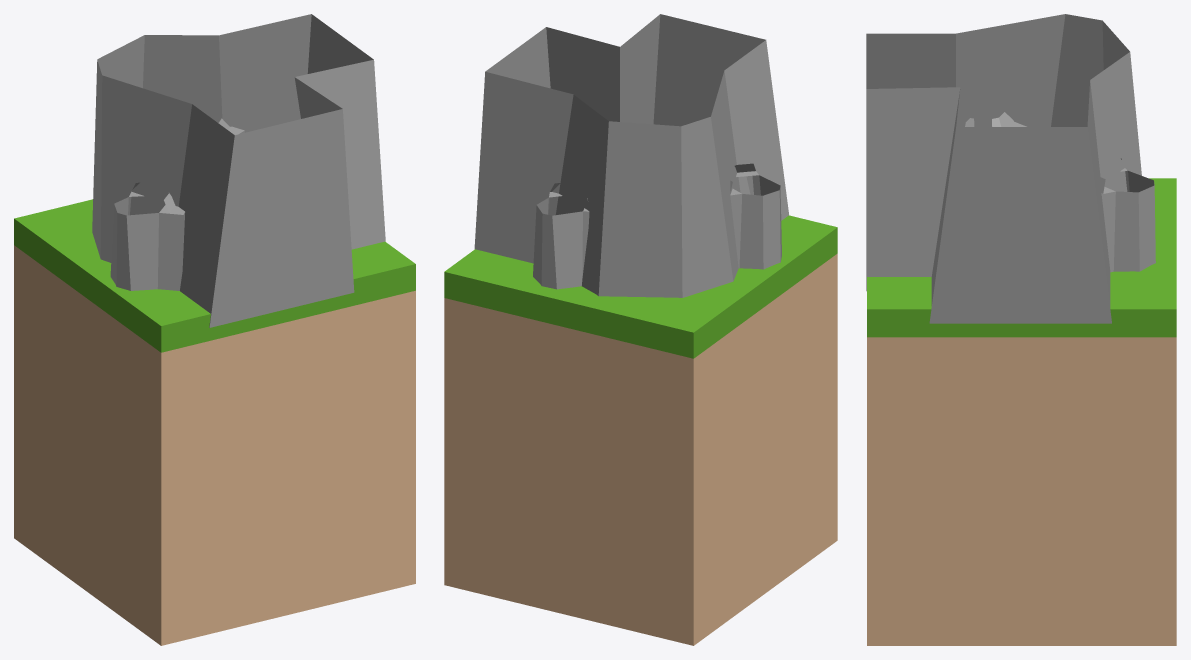
Rendered from Mountains2_2.fbx.
3 renders of one model, left to right at view 1: azimuth 30°, elevation 25°; view 2: azimuth 150°, elevation 25°; view 3: azimuth 270°, elevation 25°, orthographic. The views are drawn at different scales.
Visible parts, largest first — view 1: Cube, Cylinder; view 2: Cube, Cylinder; view 3: Cube, Cylinder.
Part boxes in pixels (x1,y1,x2,y2): Cube: [14, 199, 415, 645]; Cylinder: [92, 14, 385, 327]; Cube: [444, 215, 837, 645]; Cylinder: [474, 14, 788, 297]; Cube: [867, 178, 1176, 645]; Cylinder: [866, 14, 1155, 323].
Bounding box in the file's own units: 100 × 185 × 100.
